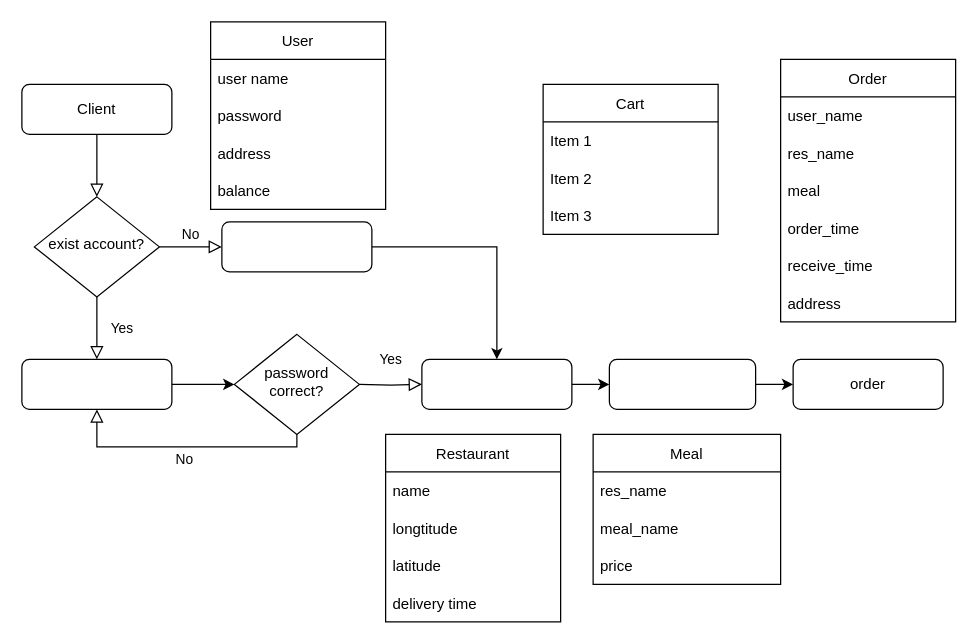
This 978x644 diagram has some shape labels left out. Here are the shapes that lost their labels. From the top down, the centre of each, then its label:
point (296, 246): sign up
point (96, 383): sign in
point (496, 383): choose restaurant
point (682, 383): choose meal
